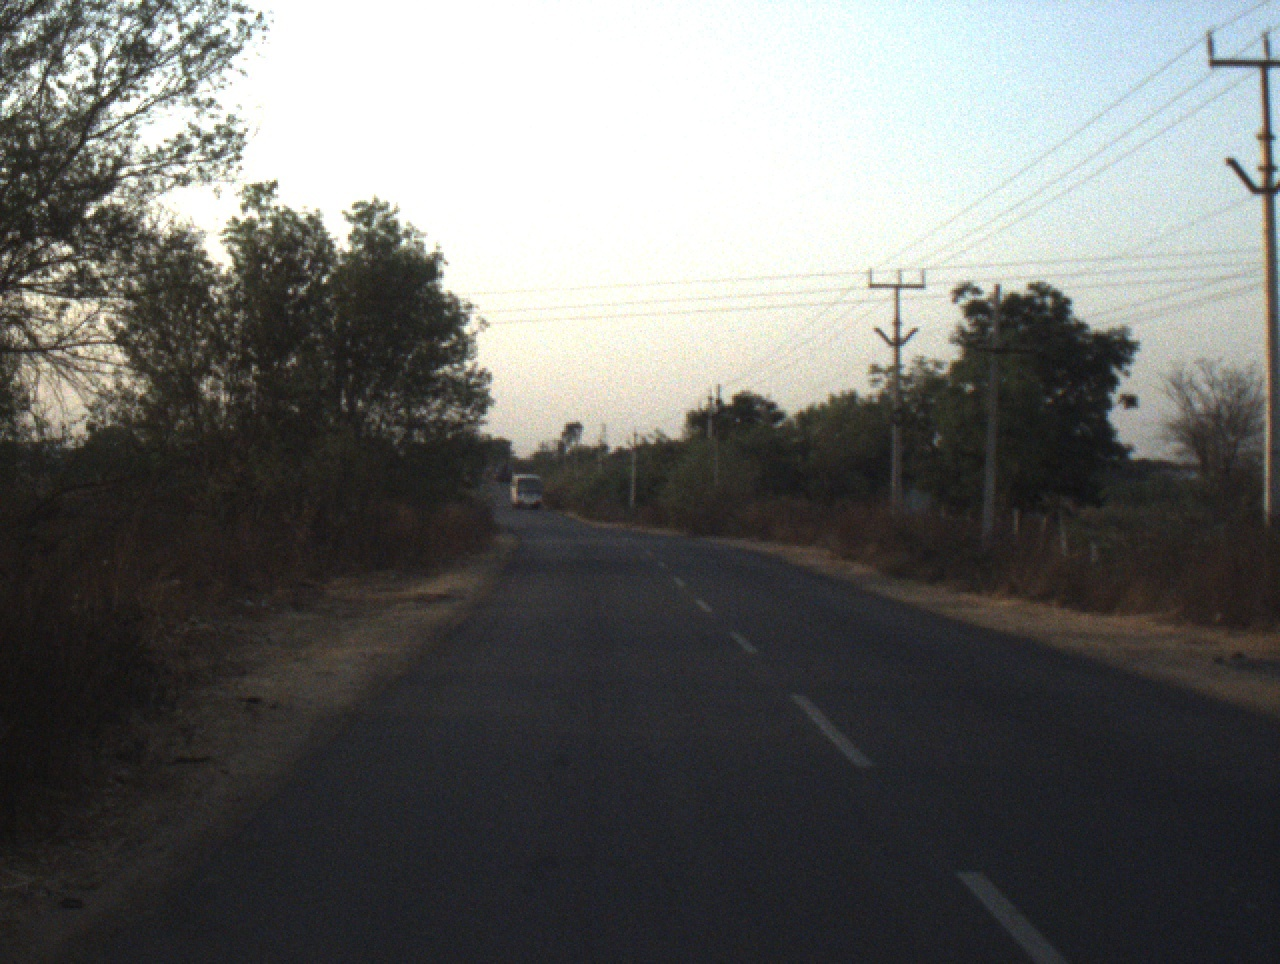bus: (505, 472, 548, 517)
car: (489, 465, 508, 486)
